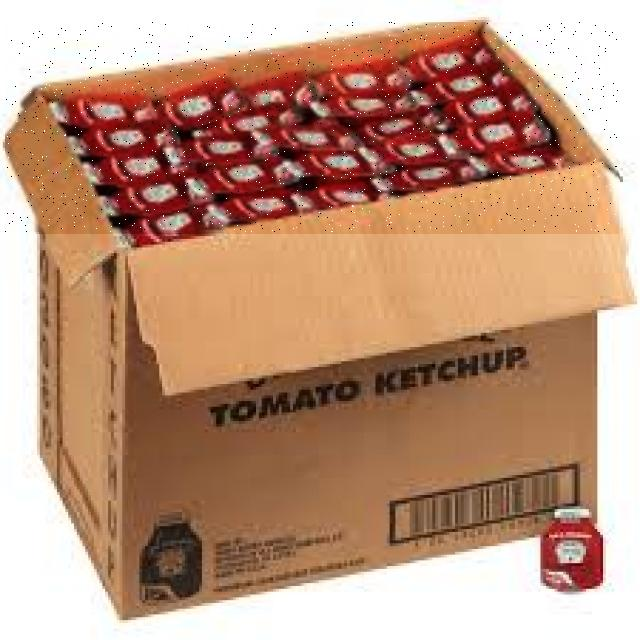leakage: (5, 22, 618, 232)
